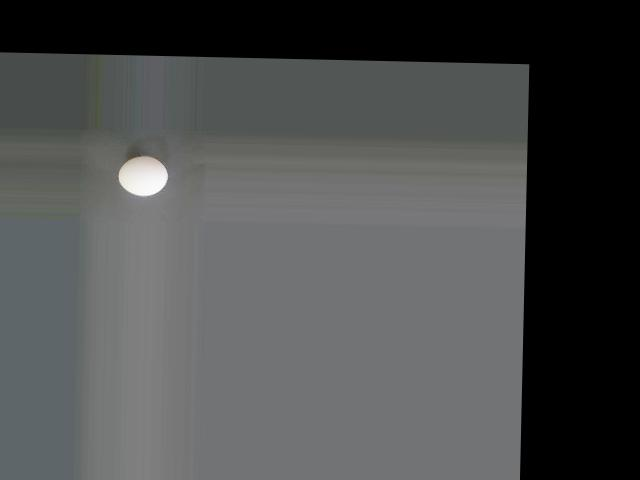egg: (117, 155, 166, 196)
